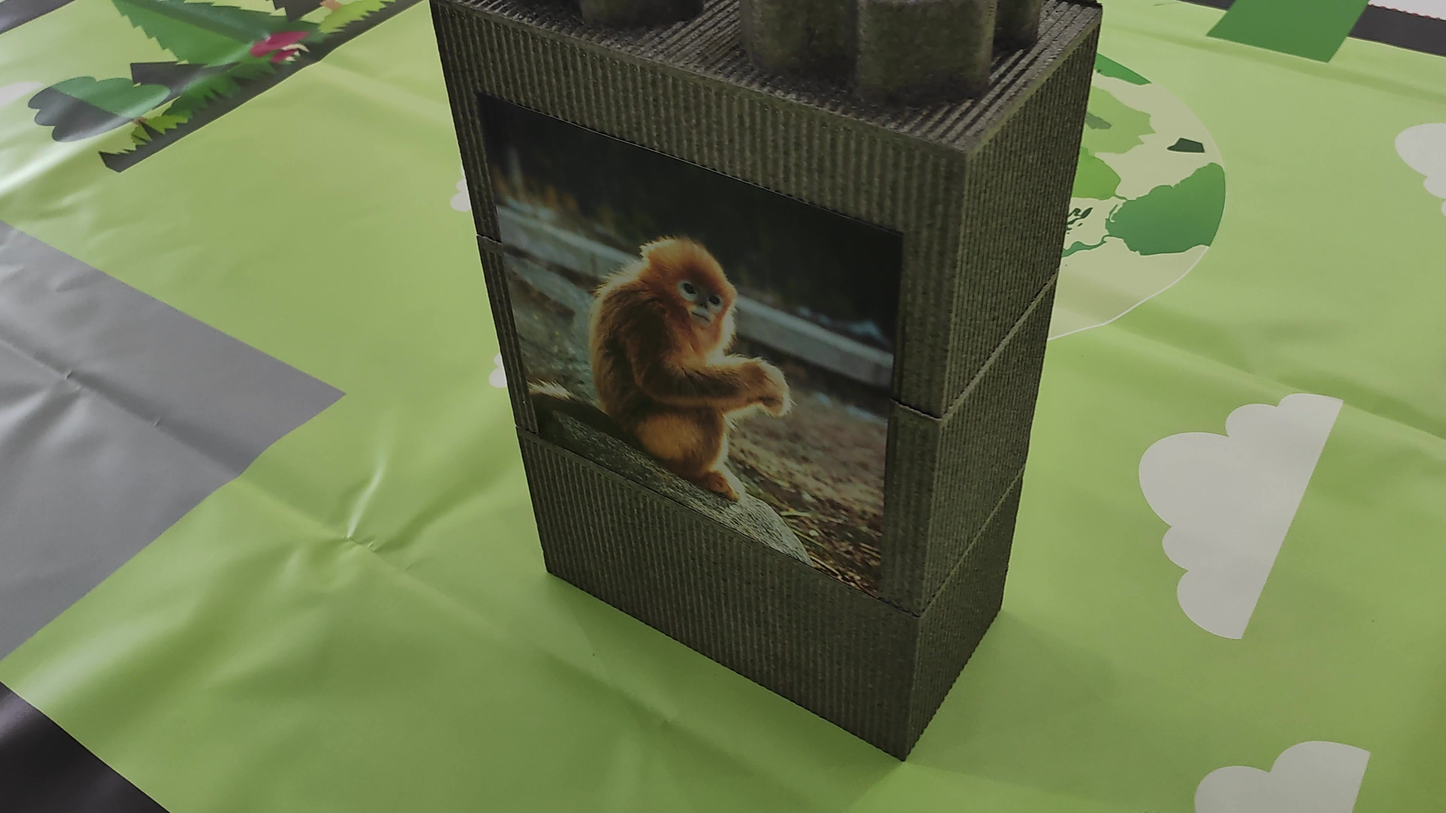monkey: (551, 201, 827, 512)
